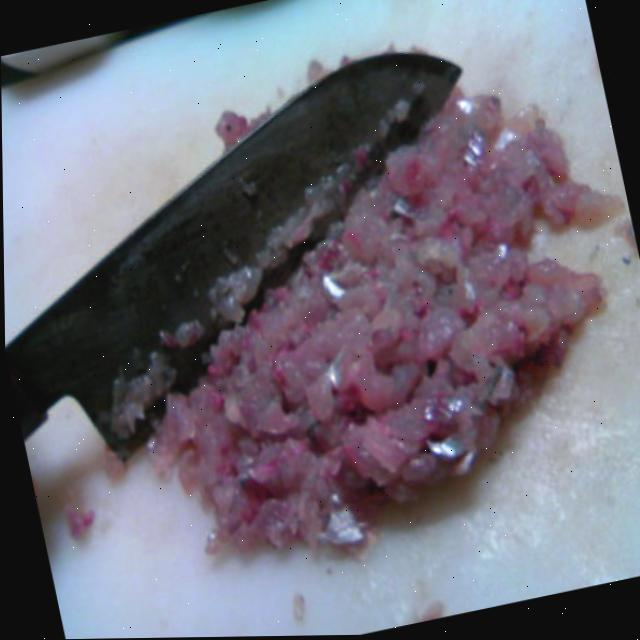熟制海鲜: (5, 5, 640, 640)
